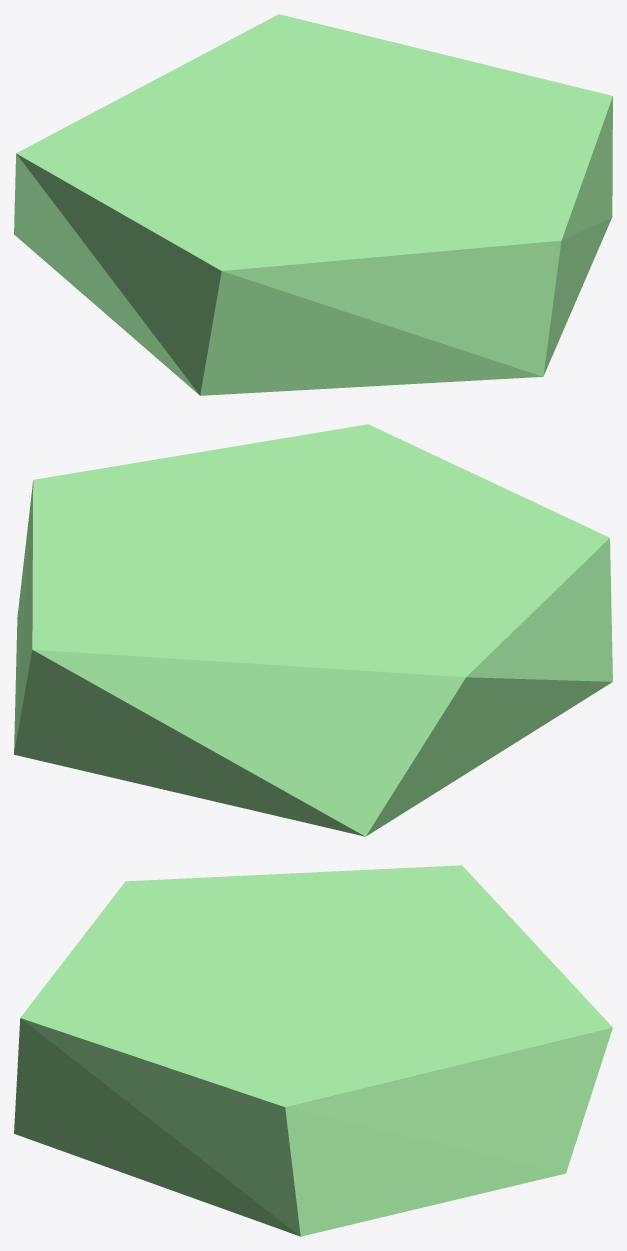
File: linkhou_LR4_R560_link6_respondable_coll_37.dae
The picture shows the model from 3 angles, top to bottom: view 1: azimuth 30°, elevation 25°; view 2: azimuth 150°, elevation 25°; view 3: azimuth 270°, elevation 25°; orthographic projection. The views are drawn at different scales.
Visible parts, largest first — view 1: Node_0000029808437380; view 2: Node_0000029808437380; view 3: Node_0000029808437380.
Part boxes in pixels (x1=…): Node_0000029808437380: x1=14, y1=14, x2=612, y2=395; Node_0000029808437380: x1=14, y1=424, x2=612, y2=836; Node_0000029808437380: x1=14, y1=865, x2=612, y2=1236.
Bounding box in the file's own units: 0.038 × 0.0091 × 0.0392.
